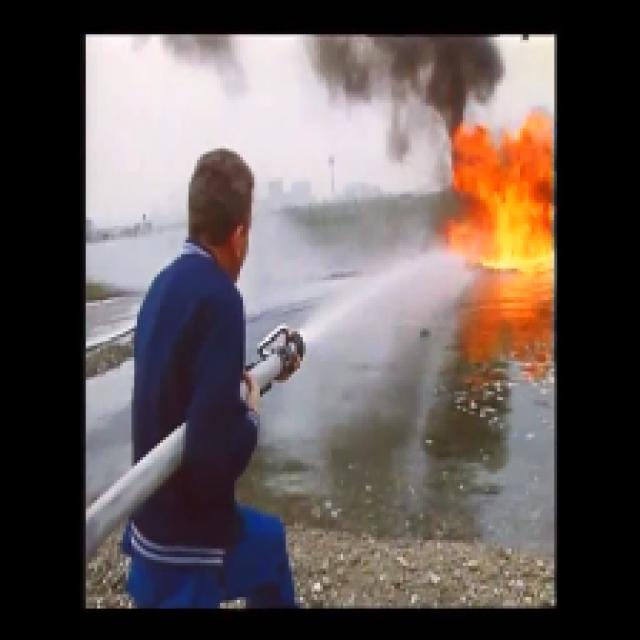fire: (457, 140, 550, 257)
